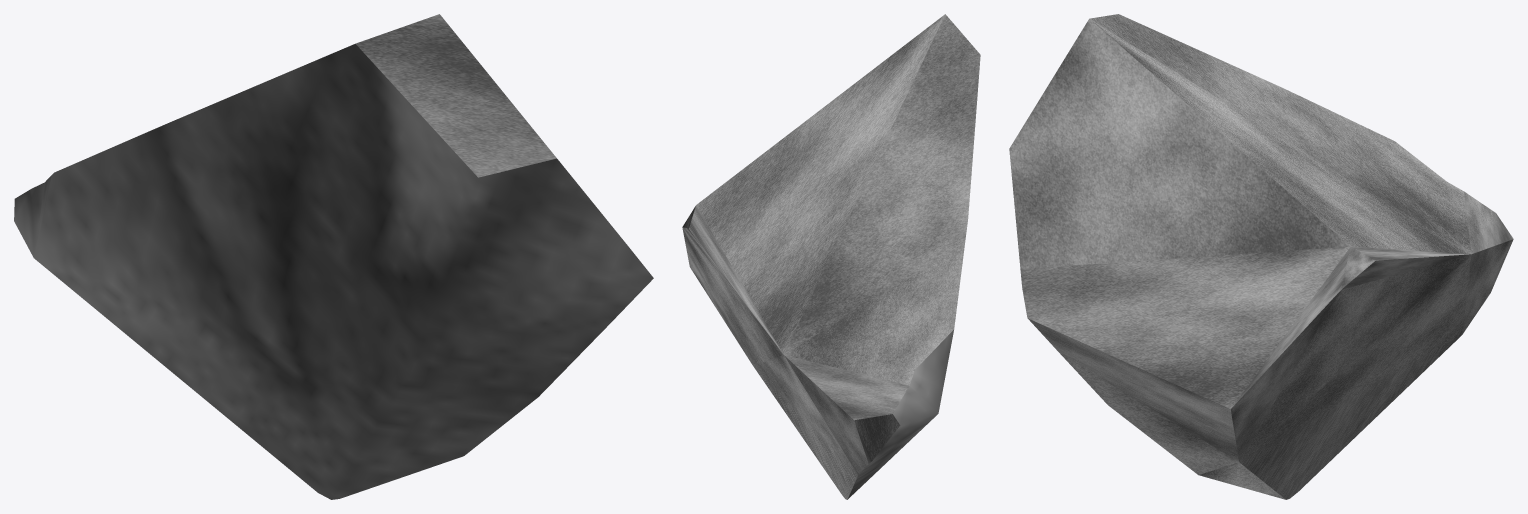
The model's file is body_cell_052.fbx.
The picture shows the model from 3 angles, left to right: view 1: azimuth 30°, elevation 25°; view 2: azimuth 150°, elevation 25°; view 3: azimuth 270°, elevation 25°; orthographic projection. The views are drawn at different scales.
Visible parts, largest first — view 1: body_cell.052; view 2: body_cell.052; view 3: body_cell.052.
Boxes of the visible parts, <box> form: body_cell.052: <box>14,14,653,499</box>; body_cell.052: <box>682,14,980,499</box>; body_cell.052: <box>1009,14,1513,499</box>.
Size of the model in its own units: 40.34 by 48.22 by 46.49.
